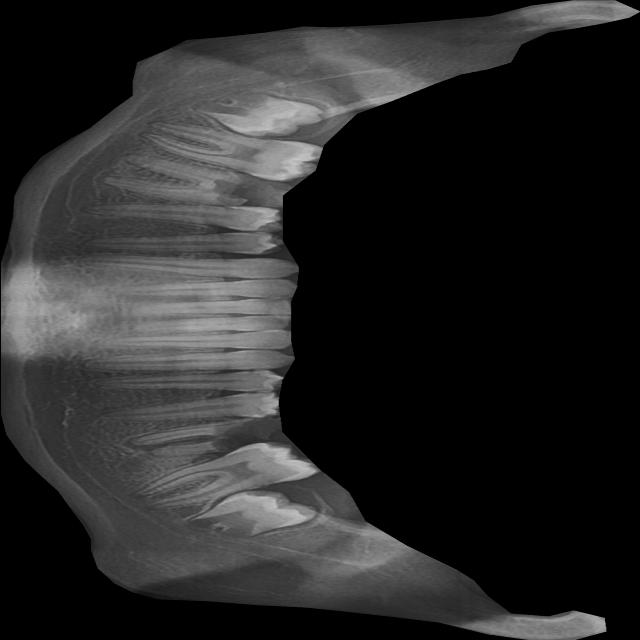mandibula: (0, 0, 640, 640)
